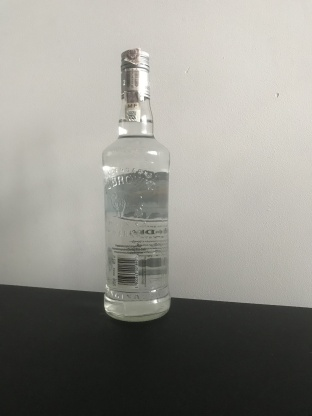nakretka: (118, 46, 152, 100)
